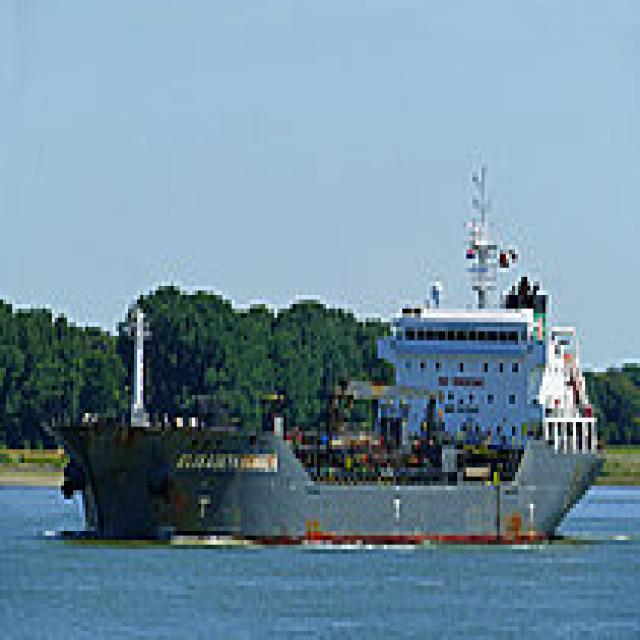Tanker: (42, 159, 604, 545)
